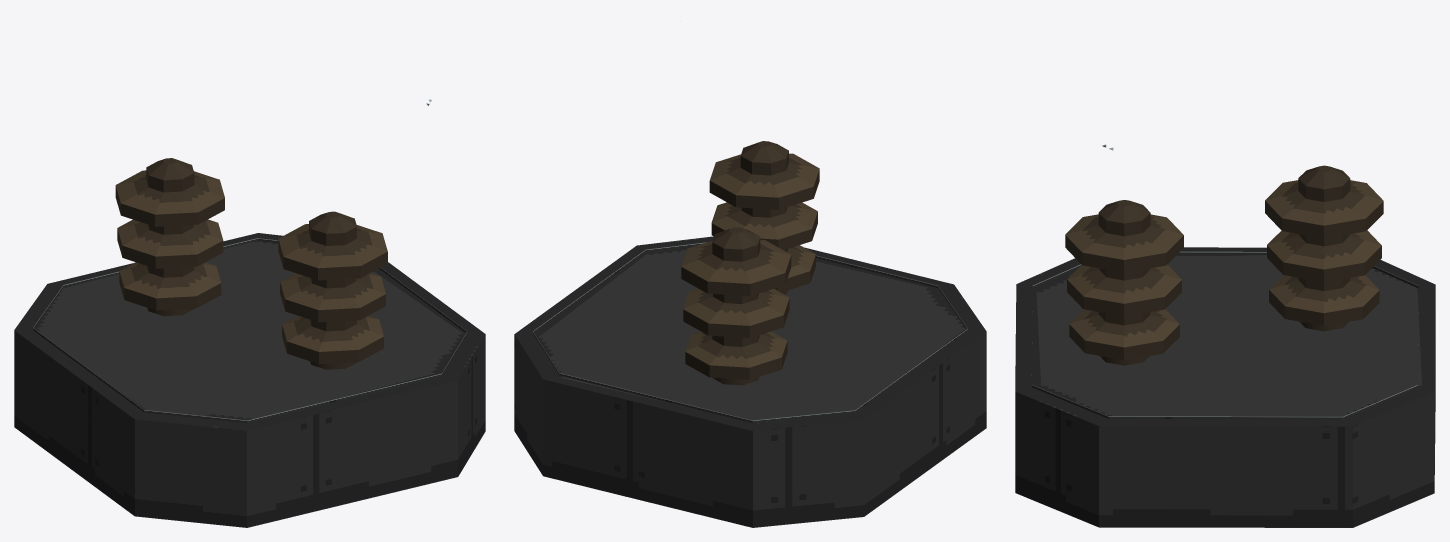
Rendered from color changer.FBX.
3 views of the same model, side by side, from view 1: azimuth 30°, elevation 25°; view 2: azimuth 150°, elevation 25°; view 3: azimuth 270°, elevation 25° (orthographic). The views are drawn at different scales.
Visible parts, largest first — view 1: Cylinder006, Object001; view 2: Cylinder006, Object001; view 3: Cylinder006, Object001.
Boxes of the visible parts, box(x1,y1,x2,y2) form: Cylinder006: box(14, 158, 485, 527); Object001: box(33, 99, 467, 422); Cylinder006: box(514, 141, 986, 527); Object001: box(533, 242, 967, 422); Cylinder006: box(1015, 165, 1435, 527); Object001: box(1031, 144, 1418, 419).
Bounding box in the file's own units: 1.01 × 1.03 × 1.
2 materials, 2 textured.
